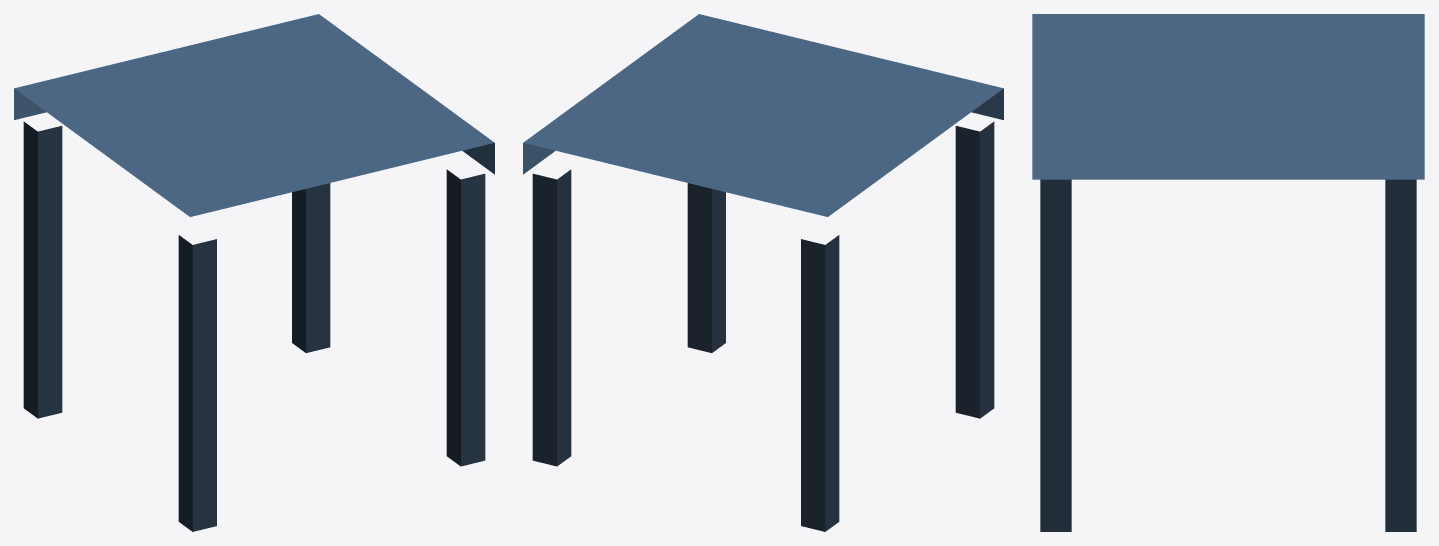
File: Table-blue.glb
The picture shows the model from 3 angles, left to right: view 1: azimuth 30°, elevation 25°; view 2: azimuth 150°, elevation 25°; view 3: azimuth 270°, elevation 25°; orthographic projection. The views are drawn at different scales.
Parts seen in each view (by area): view 1: Table; view 2: Table; view 3: Table.
Part boxes in pixels (x1,y1,x2,y2): Table: (14,14,494,531); Table: (523,14,1003,531); Table: (1032,14,1424,531).
Size of the model in its own units: 1 by 1 by 1.
